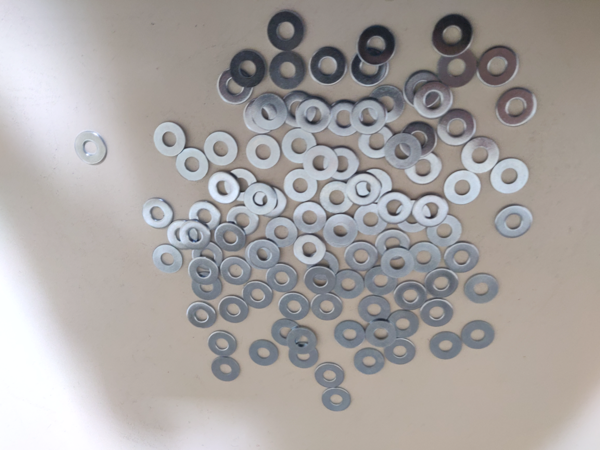circle: (434, 14, 473, 57), (496, 87, 537, 127), (478, 47, 518, 87), (358, 25, 397, 66), (438, 48, 477, 88), (350, 48, 389, 87), (414, 81, 454, 119), (437, 109, 477, 147), (268, 11, 305, 51), (490, 158, 531, 194), (461, 136, 500, 173), (403, 71, 442, 108), (310, 47, 346, 86), (270, 52, 306, 89), (252, 93, 288, 130), (400, 123, 437, 159), (351, 99, 388, 135), (369, 86, 405, 123), (385, 134, 423, 169), (218, 67, 254, 103), (326, 100, 362, 136), (231, 50, 266, 87), (444, 170, 481, 205), (358, 168, 393, 205), (282, 128, 318, 163), (495, 206, 533, 239), (405, 152, 443, 185), (246, 134, 281, 169), (296, 98, 331, 133), (378, 191, 413, 226), (204, 131, 238, 167), (413, 193, 449, 227), (283, 91, 317, 127), (304, 145, 338, 180), (359, 125, 394, 159), (243, 100, 279, 133), (324, 214, 358, 248), (354, 203, 389, 236), (427, 213, 462, 246), (323, 148, 359, 180), (154, 122, 186, 157), (176, 148, 209, 181), (284, 168, 317, 201), (320, 181, 353, 214), (245, 182, 277, 216), (225, 168, 257, 202), (376, 229, 410, 261), (464, 274, 500, 304), (75, 132, 107, 165), (293, 202, 326, 234), (381, 247, 414, 279), (445, 243, 479, 274), (208, 173, 240, 205), (294, 234, 326, 266), (254, 187, 287, 218), (227, 205, 259, 236), (359, 295, 392, 325), (462, 320, 495, 350), (345, 241, 378, 271), (143, 198, 174, 229), (395, 281, 427, 311), (266, 263, 298, 293), (153, 244, 184, 274), (180, 221, 211, 251), (215, 222, 246, 252), (167, 221, 198, 251), (266, 218, 297, 248), (190, 200, 220, 231), (409, 243, 441, 272), (421, 299, 454, 327), (426, 270, 459, 298), (220, 257, 251, 286), (188, 257, 219, 286), (305, 266, 336, 295), (308, 252, 339, 281), (388, 311, 419, 340), (311, 293, 343, 321), (366, 320, 398, 348), (431, 332, 463, 360), (365, 267, 397, 295), (243, 281, 274, 309), (192, 242, 223, 270), (289, 341, 320, 369), (279, 293, 310, 321), (250, 240, 279, 269), (246, 241, 275, 270), (336, 270, 365, 299), (192, 272, 222, 300), (335, 320, 365, 348), (287, 327, 318, 354), (384, 339, 416, 365), (249, 340, 279, 367), (271, 320, 301, 347), (355, 348, 385, 375), (187, 302, 218, 328), (208, 331, 238, 357), (315, 363, 344, 389), (219, 297, 248, 323), (212, 357, 240, 382), (322, 389, 352, 412)
